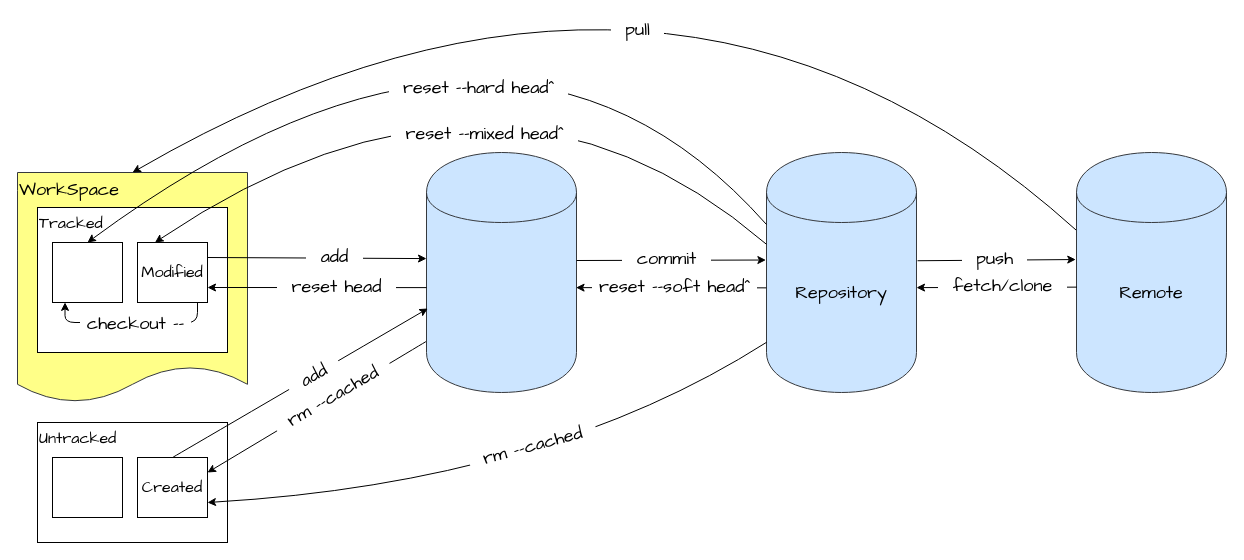
The diagram is 1244 pixels wide and 560 high, and some of its shapes have lost their labels. The centre of each missing label's shape, as x and y in pixels:
None: point (87, 487)
Origin: point (87, 272)
Staged: point (501, 272)
